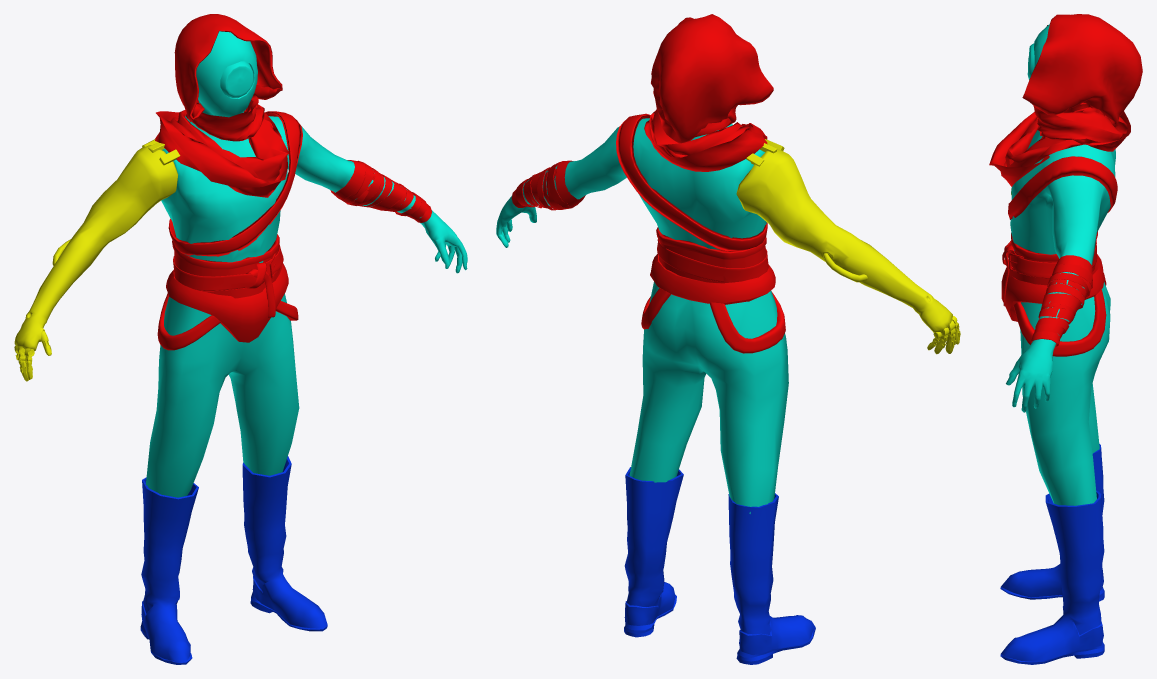
File: MESH_Character_low.fbx
3 views of the same model, side by side, from view 1: azimuth 30°, elevation 25°; view 2: azimuth 150°, elevation 25°; view 3: azimuth 270°, elevation 25° (orthographic). The views are drawn at different scales.
Visible parts, largest first — view 1: MESH_Character_low; view 2: MESH_Character_low; view 3: MESH_Character_low.
Boxes of the visible parts, x1,y1,x2,y2 form: MESH_Character_low: (14, 14, 467, 664); MESH_Character_low: (496, 14, 960, 664); MESH_Character_low: (989, 14, 1142, 664).
Bounding box in the file's own units: 1.34 × 1.74 × 0.3978.
